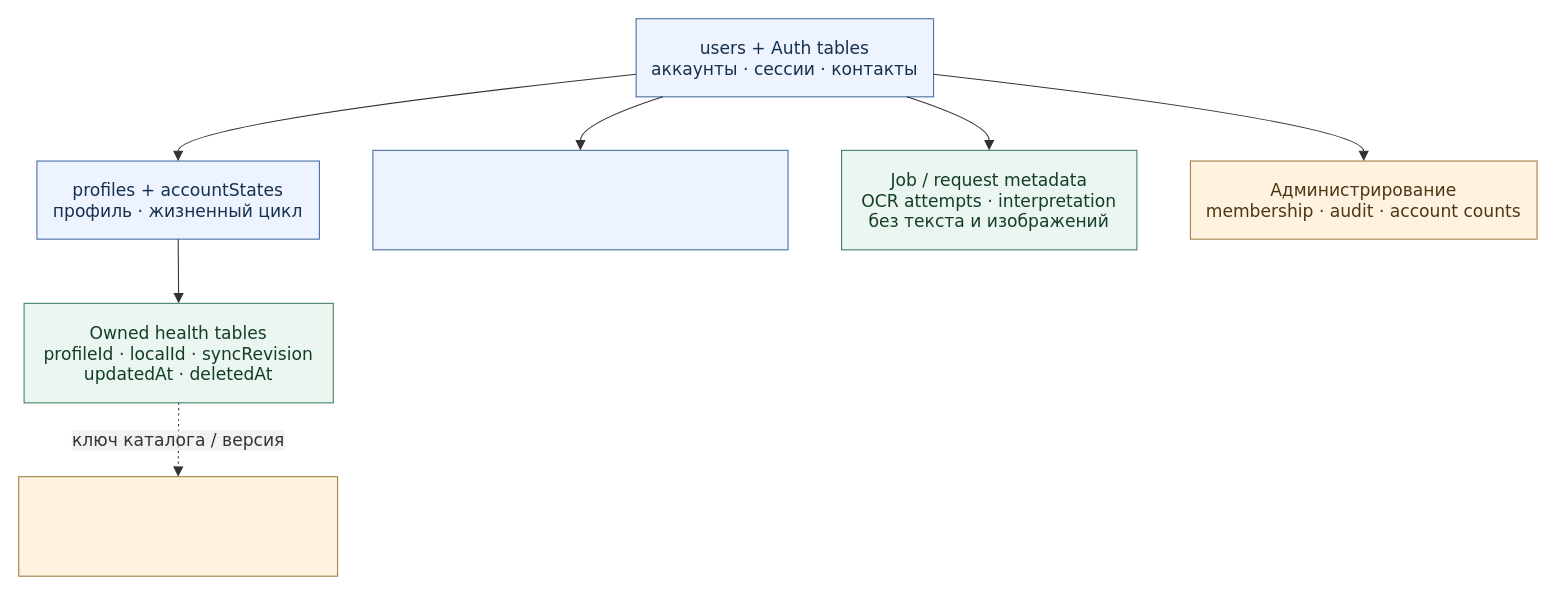
This 1556x595 diagram has some shape labels left out. The box of each missing label's shape, as (x1, y1, x2, y2) in pixels:
Каталоги и контент testSystems → lots / calibrations contentItems → versions: (18, 476, 338, 576)
Согласия sync: user + session chat · agent · OCR · interpretation · analytics: (372, 149, 788, 250)
